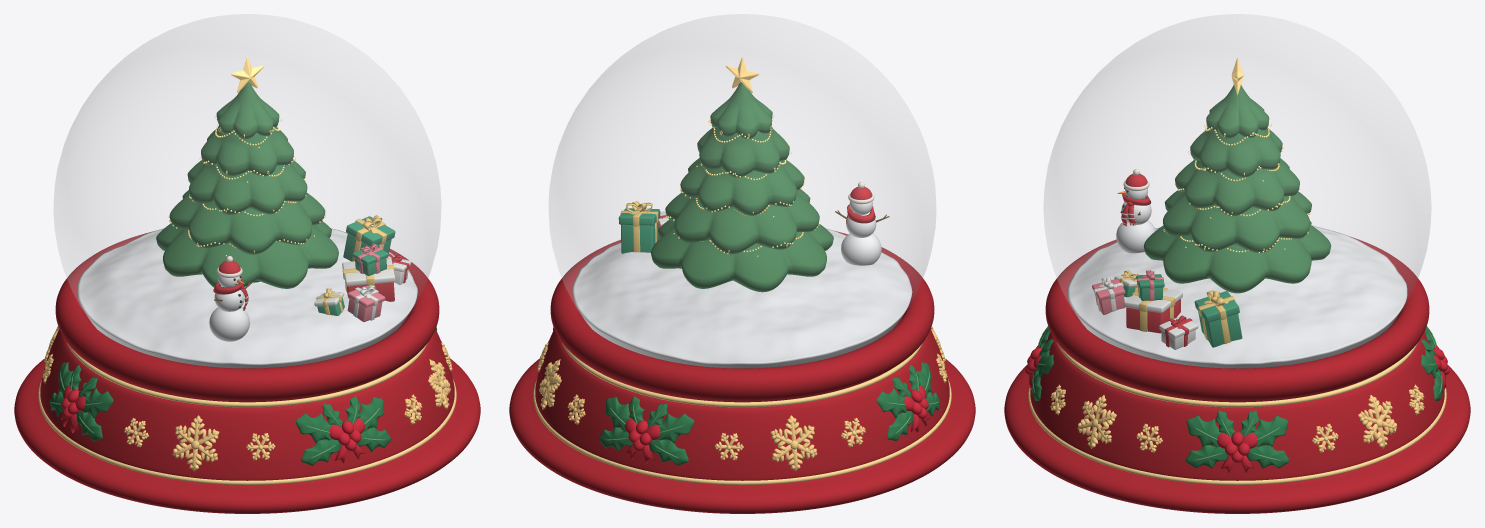
Rendered from snowglobe.glb.
The picture shows the model from 3 angles, left to right: view 1: azimuth 30°, elevation 25°; view 2: azimuth 150°, elevation 25°; view 3: azimuth 270°, elevation 25°; orthographic projection.
Parts seen in each view (by area): view 1: w_Glass_Dome, w_Base_Body, w_Snow_Ground, w_Tree_v8, w_Base_Relief_green, w_Base_Relief_gold, w_Snowman, w_Base_GoldRim_Bottom, w_Base_GoldRim_Top, w_Base_Relief_red, w_Gift_B, w_Gift_A (+4 smaller); view 2: w_Glass_Dome, w_Base_Body, w_Snow_Ground, w_Tree_v8, w_Base_Relief_green, w_Base_Relief_gold, w_Snowman, w_Base_GoldRim_Bottom, w_Base_GoldRim_Top, w_Gift_B, w_Base_Relief_red, w_Tree_Garland; view 3: w_Glass_Dome, w_Base_Body, w_Snow_Ground, w_Tree_v8, w_Base_Relief_green, w_Base_Relief_gold, w_Base_GoldRim_Bottom, w_Snowman, w_Base_GoldRim_Top, w_Gift_B, w_Gift_A, w_Base_Relief_red (+4 smaller).
Part boxes in pixels (<box>): w_Glass_Dome: <box>53,14,441,367</box>; w_Base_Body: <box>14,231,480,513</box>; w_Snow_Ground: <box>77,228,417,368</box>; w_Tree_v8: <box>156,82,338,288</box>; w_Base_Relief_green: <box>49,327,441,465</box>; w_Base_Relief_gold: <box>42,326,452,471</box>; w_Snowman: <box>209,256,251,341</box>; w_Base_GoldRim_Bottom: <box>38,379,456,485</box>; w_Base_GoldRim_Top: <box>67,343,427,407</box>; w_Base_Relief_red: <box>60,385,364,463</box>; w_Gift_B: <box>343,215,395,261</box>; w_Gift_A: <box>342,258,395,301</box>; w_Glass_Dome: <box>548,14,936,367</box>; w_Base_Body: <box>509,231,975,513</box>; w_Snow_Ground: <box>572,228,912,368</box>; w_Tree_v8: <box>651,82,833,292</box>; w_Base_Relief_green: <box>548,327,940,465</box>; w_Base_Relief_gold: <box>537,326,947,471</box>; w_Snowman: <box>835,182,889,265</box>; w_Base_GoldRim_Bottom: <box>533,379,951,485</box>; w_Base_GoldRim_Top: <box>562,343,922,407</box>; w_Gift_B: <box>618,201,660,253</box>; w_Base_Relief_red: <box>625,385,929,463</box>; w_Tree_Garland: <box>666,120,817,254</box>; w_Glass_Dome: <box>1043,14,1431,367</box>; w_Base_Body: <box>1004,227,1470,513</box>; w_Snow_Ground: <box>1067,225,1407,368</box>; w_Tree_v8: <box>1143,85,1331,293</box>; w_Base_Relief_green: <box>1032,326,1442,468</box>; w_Base_Relief_gold: <box>1050,384,1424,452</box>; w_Base_GoldRim_Bottom: <box>1028,388,1446,485</box>; w_Snowman: <box>1116,169,1155,253</box>; w_Base_GoldRim_Top: <box>1057,343,1417,407</box>; w_Gift_B: <box>1194,290,1242,347</box>; w_Gift_A: <box>1124,287,1182,333</box>; w_Base_Relief_red: <box>1025,344,1449,472</box>.
Bounding box in the file's own units: 2.4 × 2.2 × 2.4.
